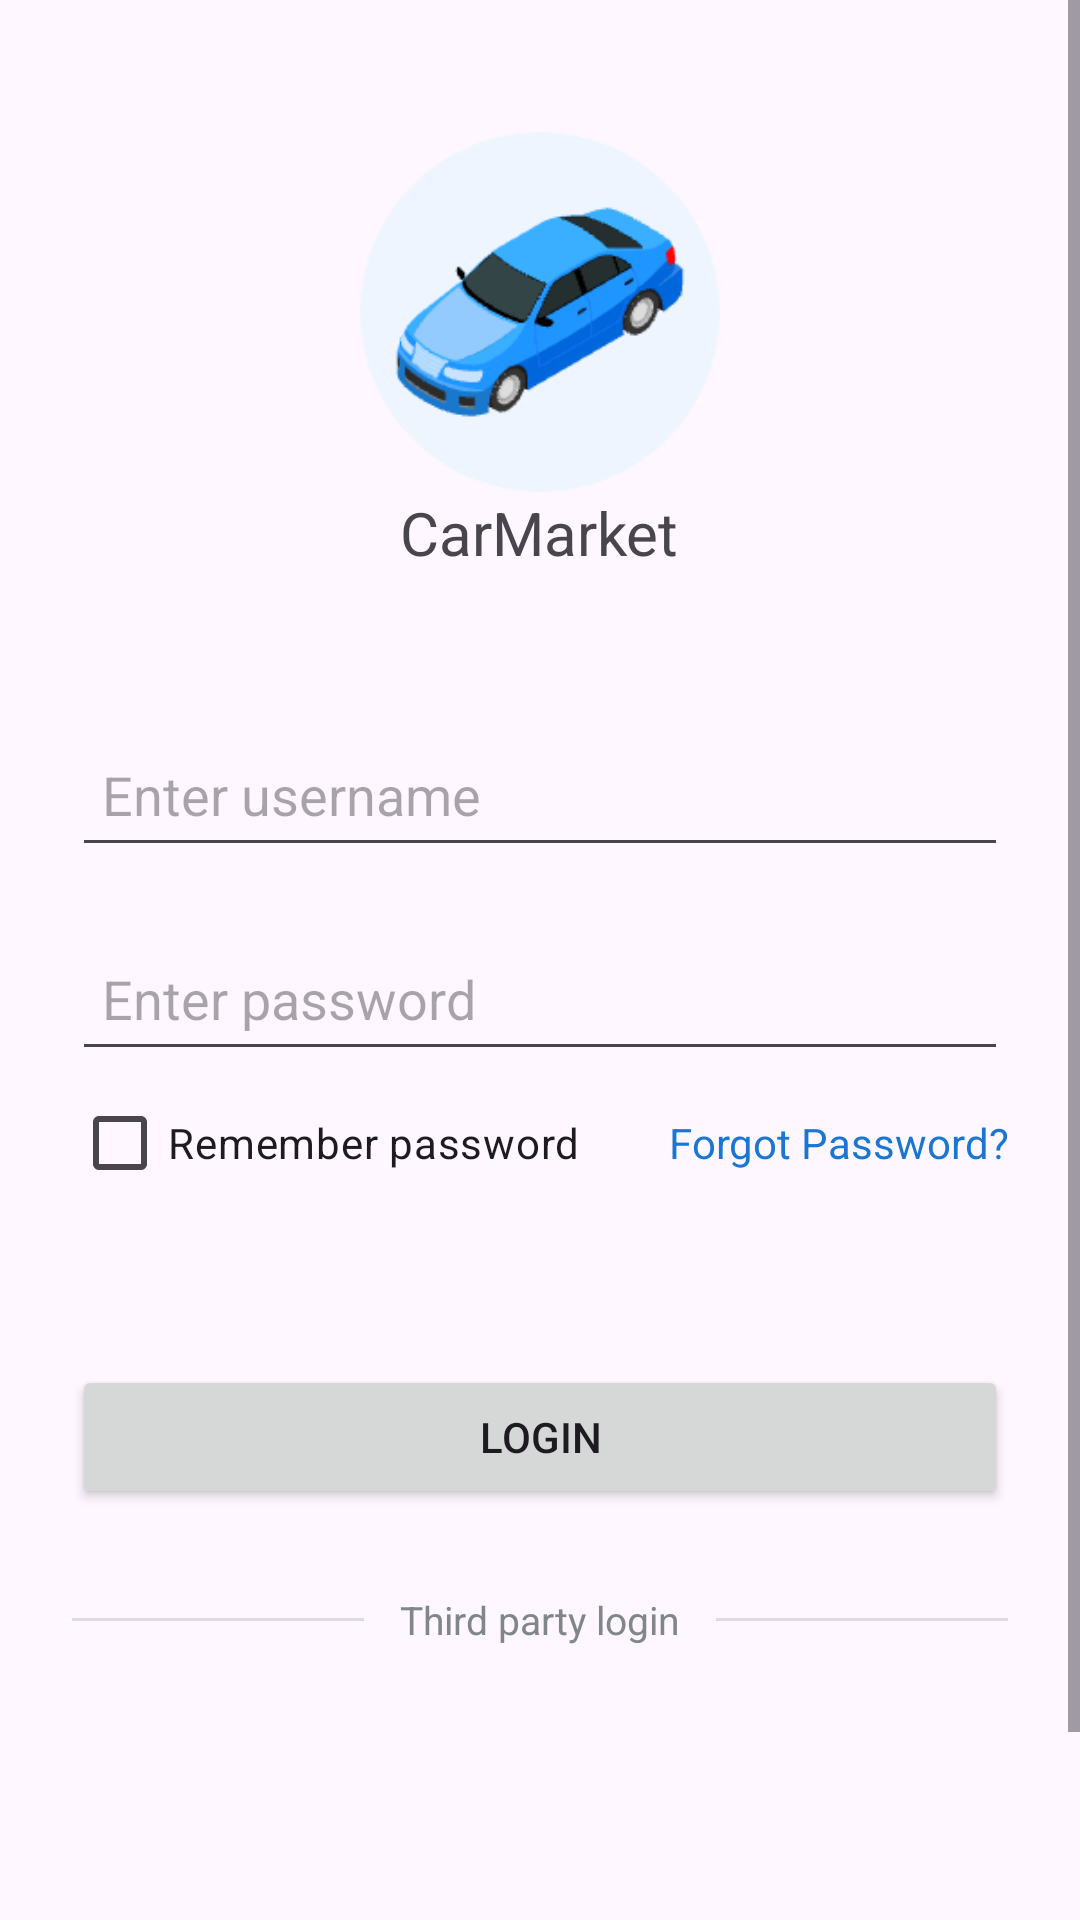

Icons on this 1080 × 1920 Android screen, each with its box as (x1,y1,x2,y2):
car login: (395,207,685,417)
